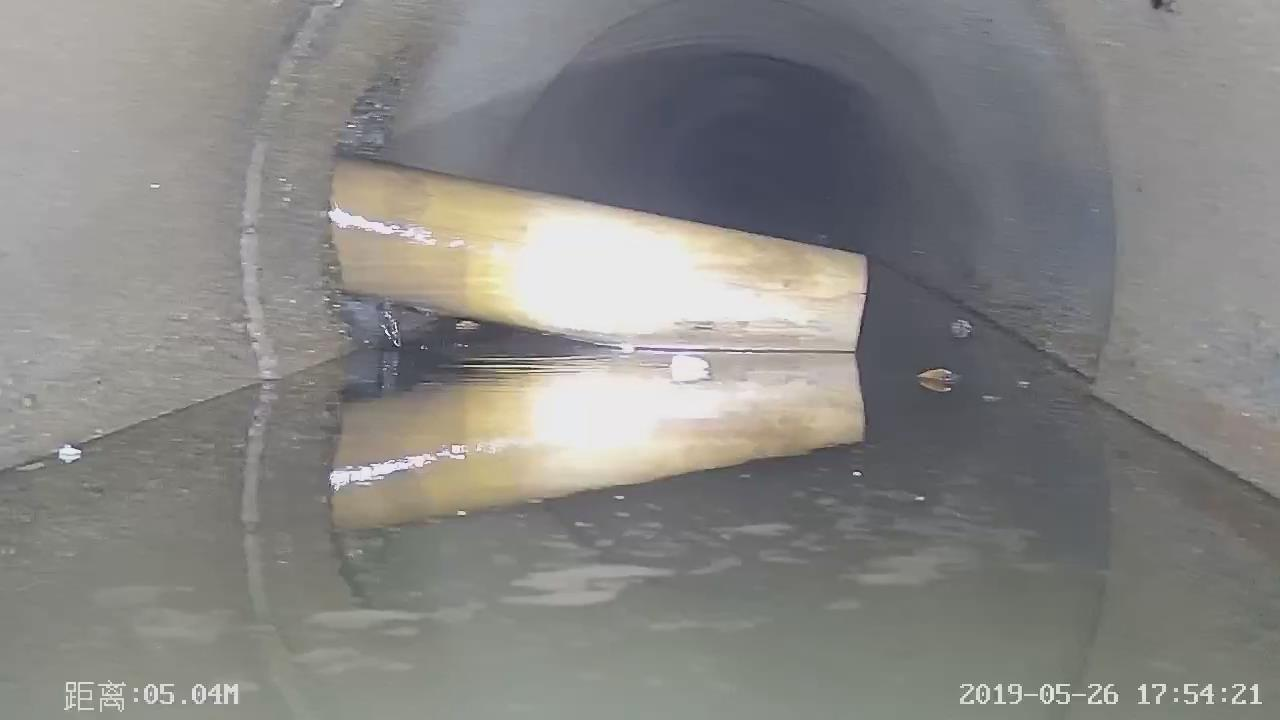ZGAJ: (328, 161, 865, 351)
